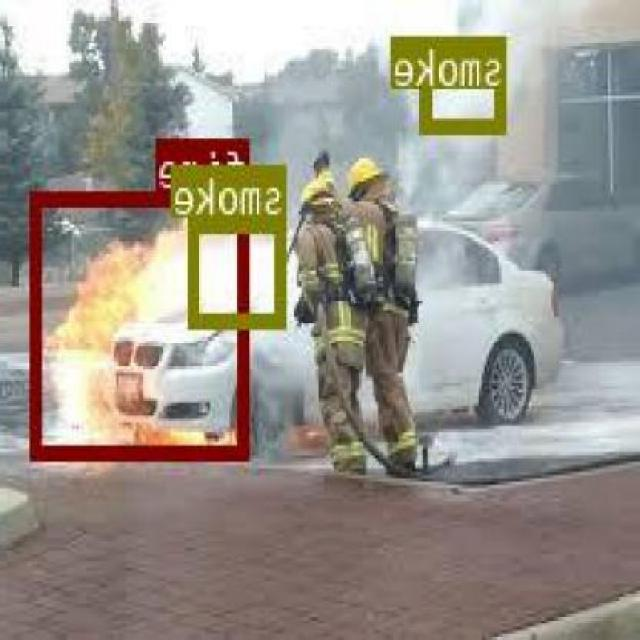Fire: (34, 190, 252, 458)
Smoke: (192, 216, 288, 324), (424, 36, 508, 130)
